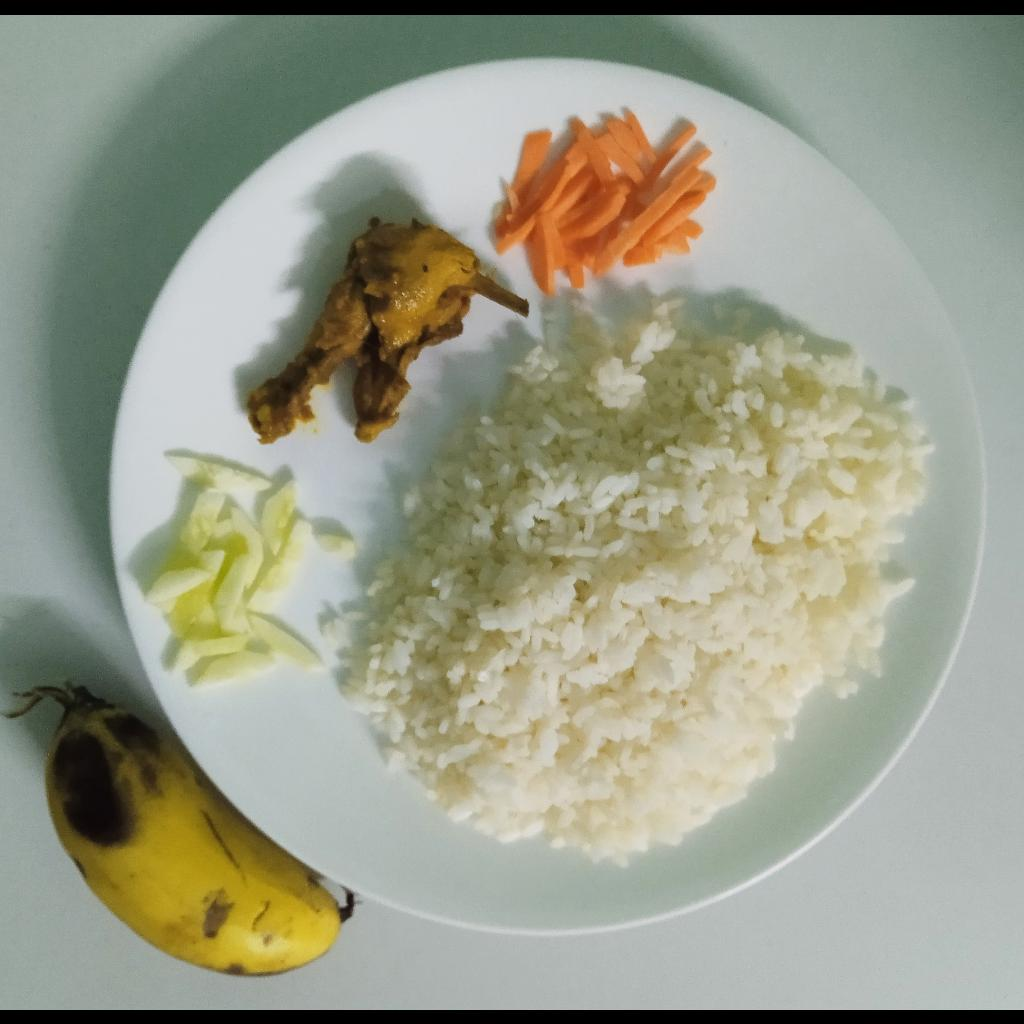banana: (44, 684, 343, 974)
carrot: (492, 105, 719, 299)
chicken: (245, 221, 531, 446)
cucumber: (143, 452, 356, 685)
rice: (325, 292, 926, 860)
